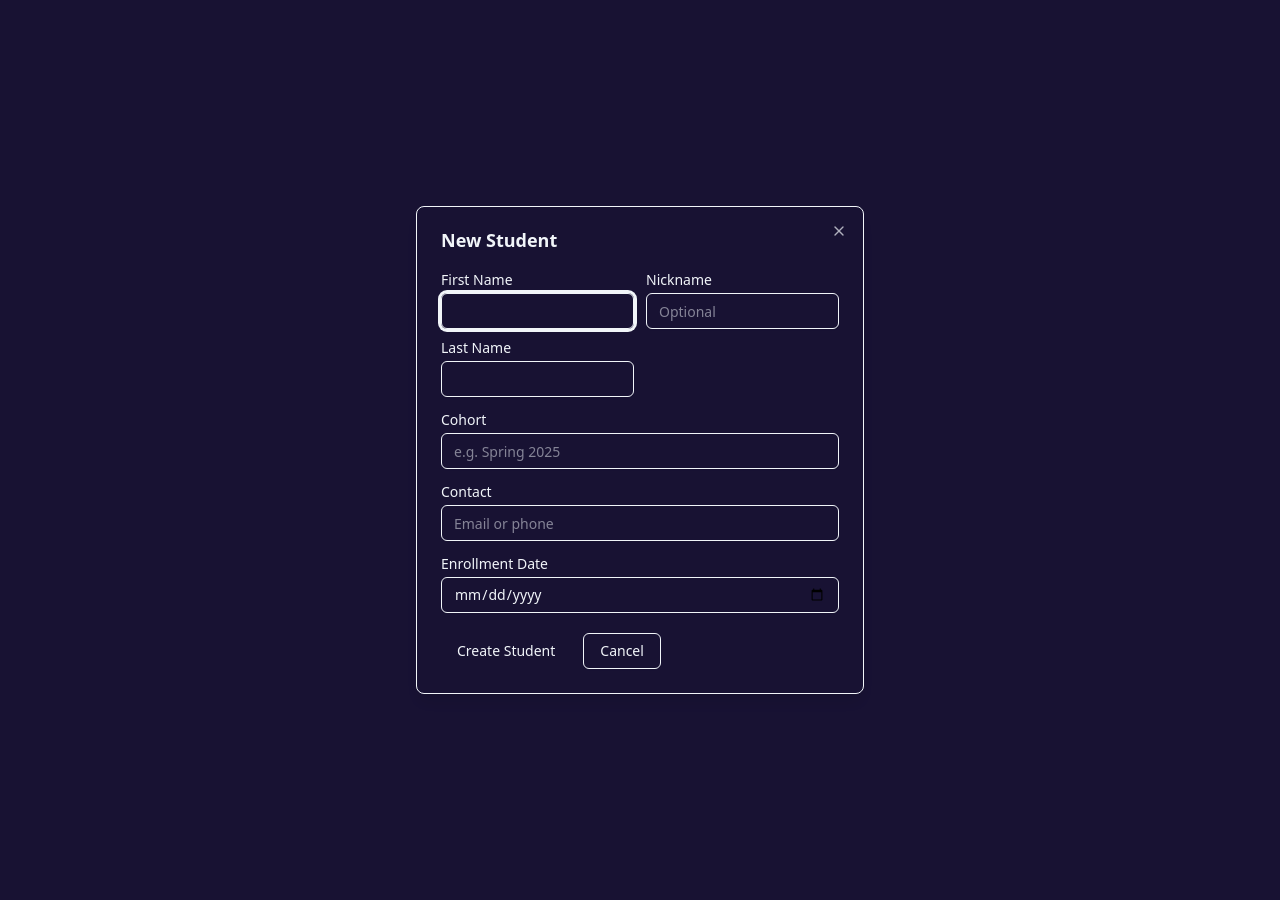
Test case: NewStudentDialog › should show loading state while submitting
In the field labelled "First Name": (538, 311) [441,293,634,329], type "John"
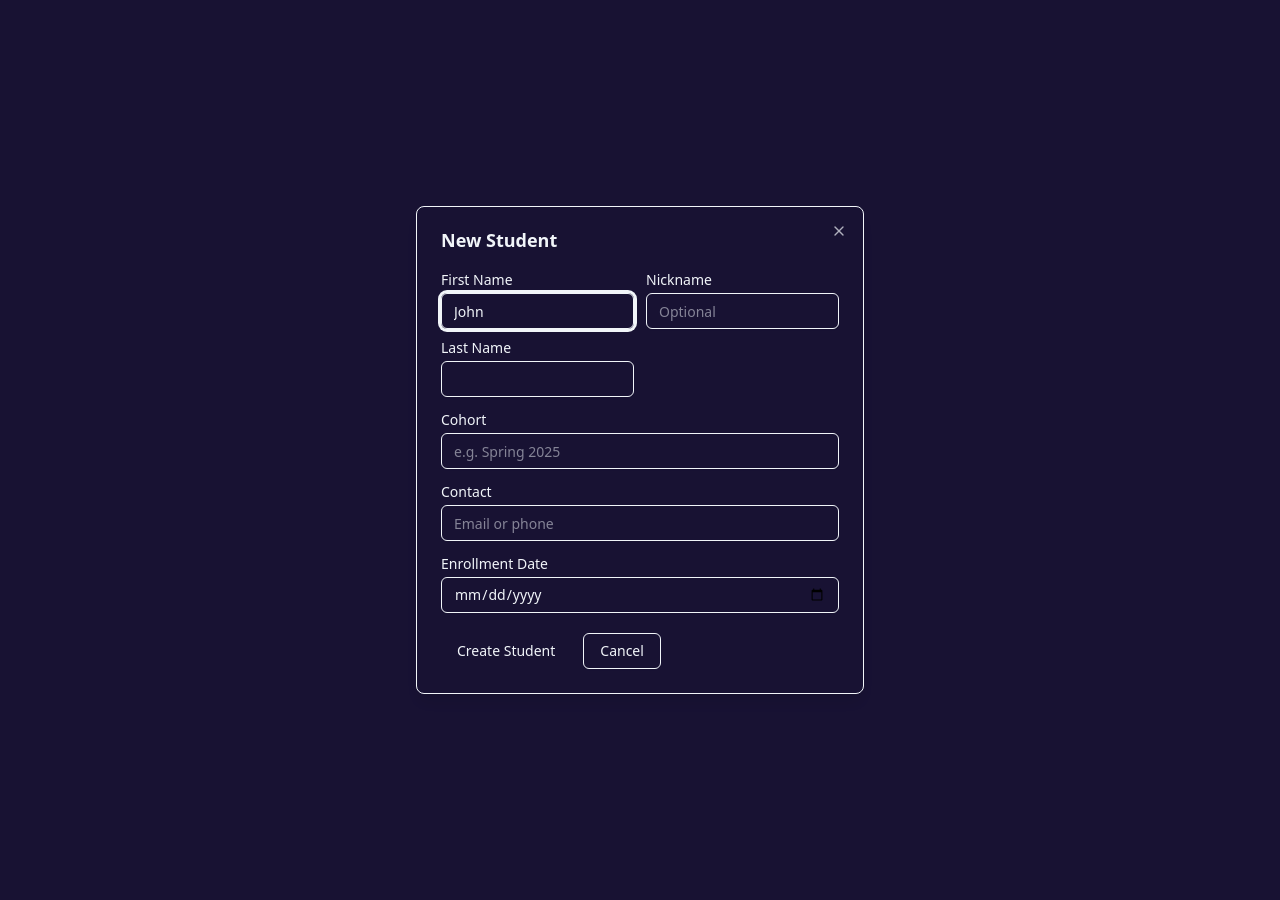
In the field labelled "Last Name": (538, 379) [441,361,634,397], type "Doe"
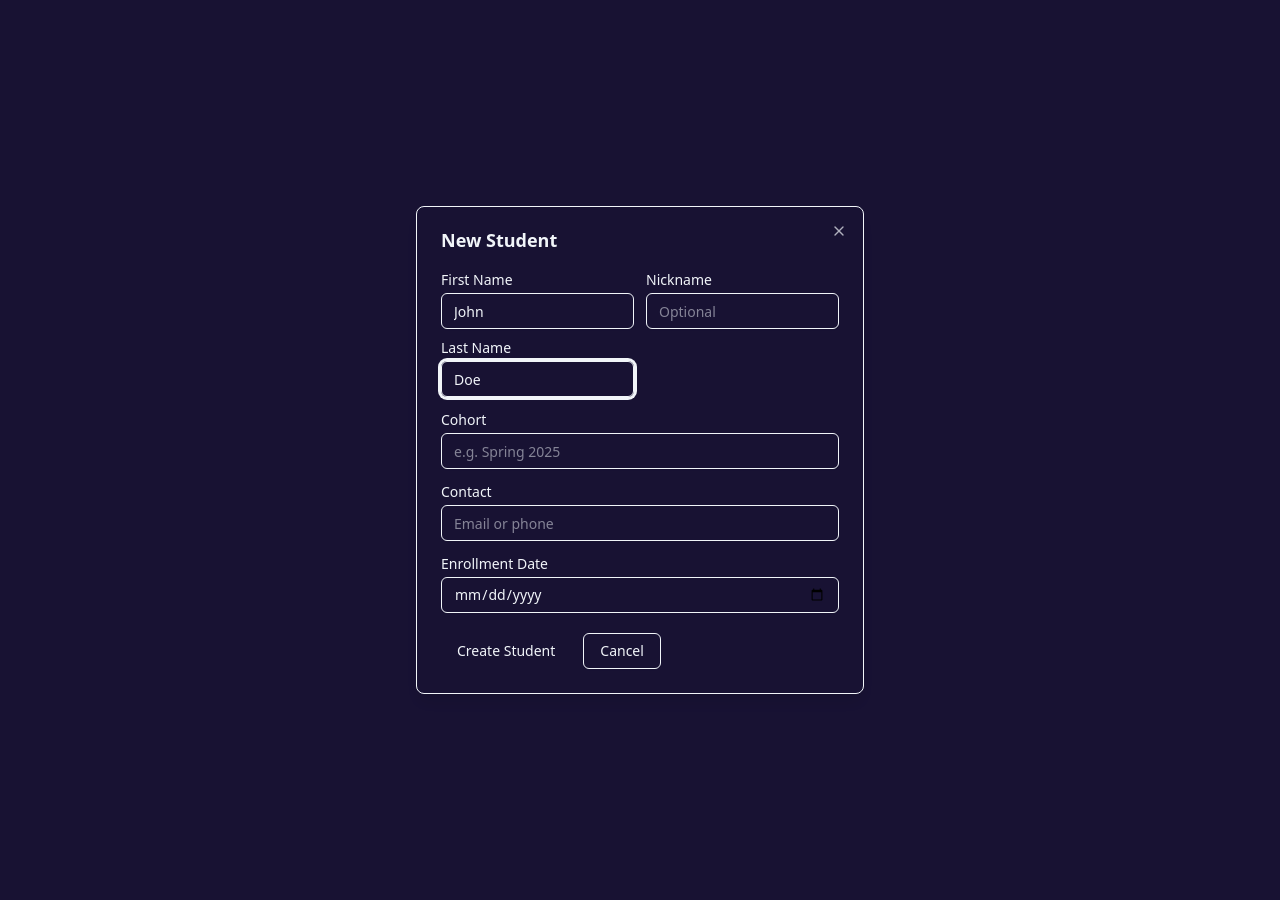
Click the button "Create Student": (506, 651) [441,633,571,669]
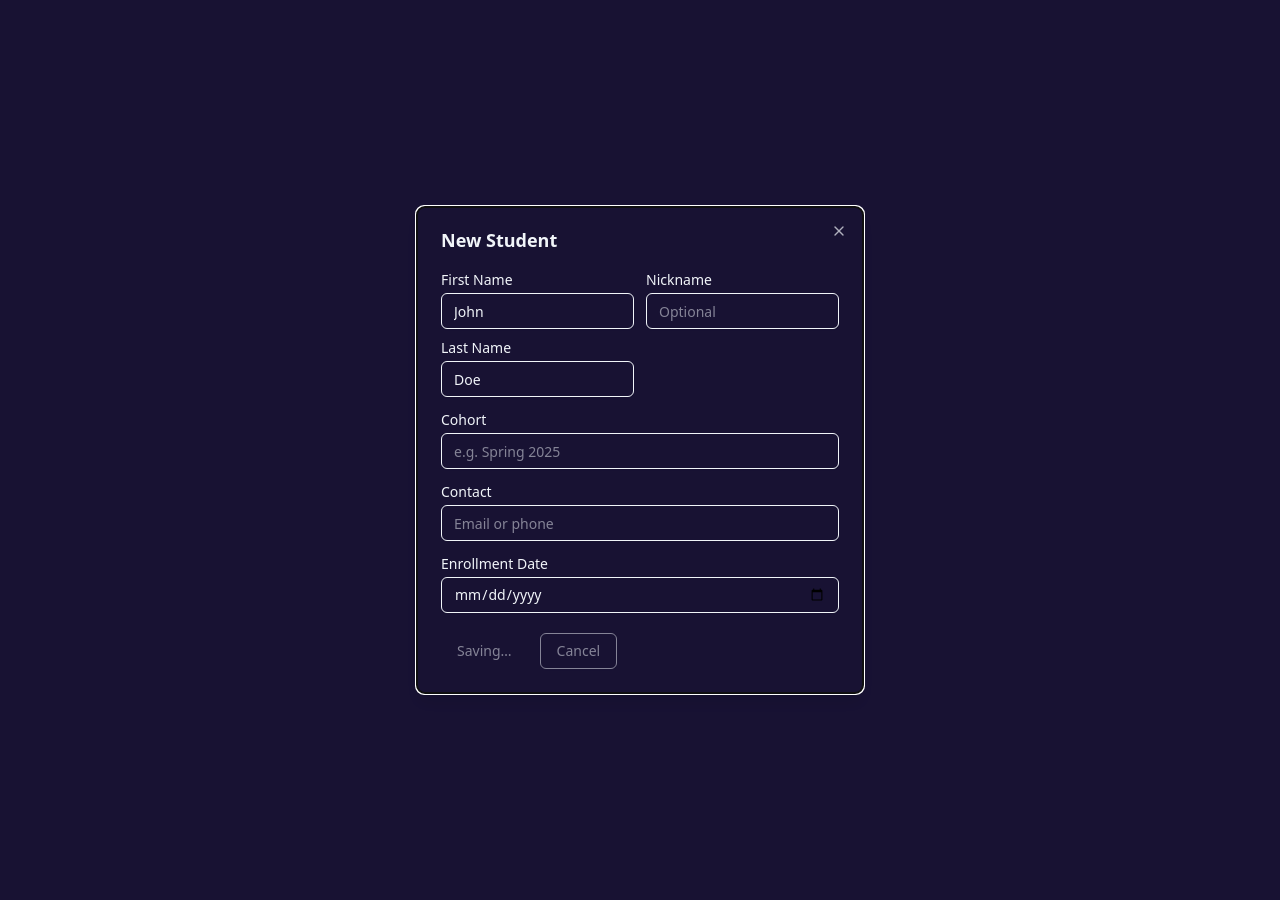
expect the button "Saving…" is disabled: met, box [441,633,528,669]
expect the button "Cancel" is disabled: met, box [540,633,617,669]
